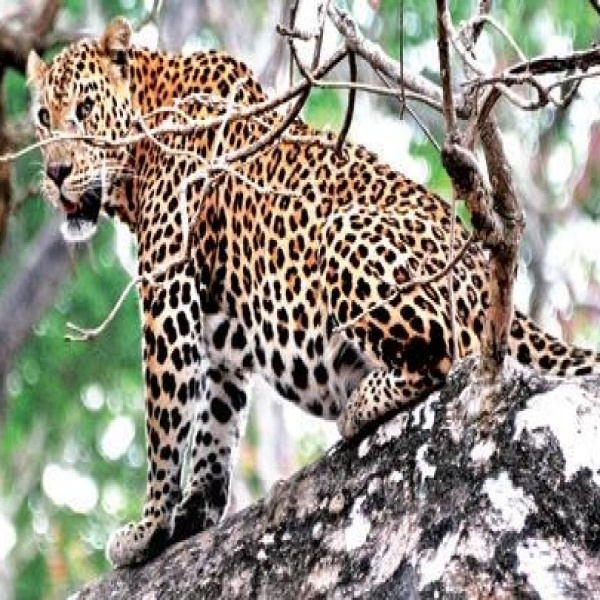Leopard: (21, 14, 600, 563)
